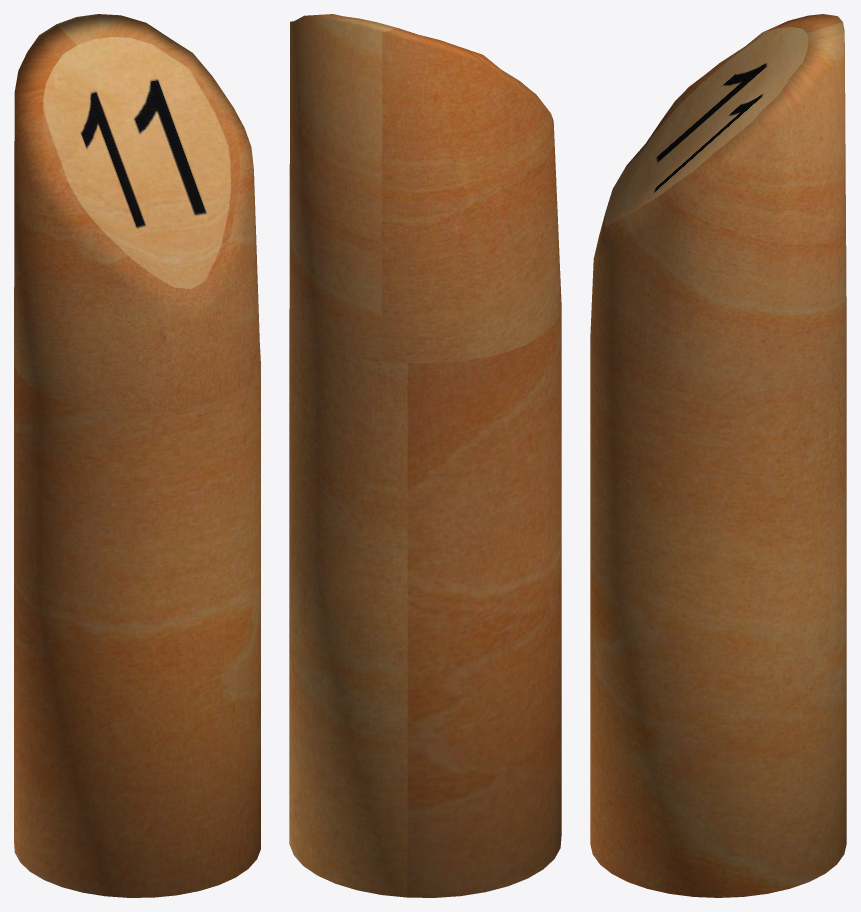
The model's file is molkky11.glb.
The picture shows the model from 3 angles, left to right: view 1: azimuth 30°, elevation 25°; view 2: azimuth 150°, elevation 25°; view 3: azimuth 270°, elevation 25°; orthographic projection. The views are drawn at different scales.
Visible parts, largest first — view 1: Cylinder.003; view 2: Cylinder.003; view 3: Cylinder.003.
Boxes of the visible parts, bbox=[...] form: Cylinder.003: bbox=[14, 14, 260, 897]; Cylinder.003: bbox=[289, 14, 561, 897]; Cylinder.003: bbox=[590, 14, 846, 897].
Bounding box in the file's own units: 0.4975 × 1.74 × 0.4975.
1 material, 1 textured.
